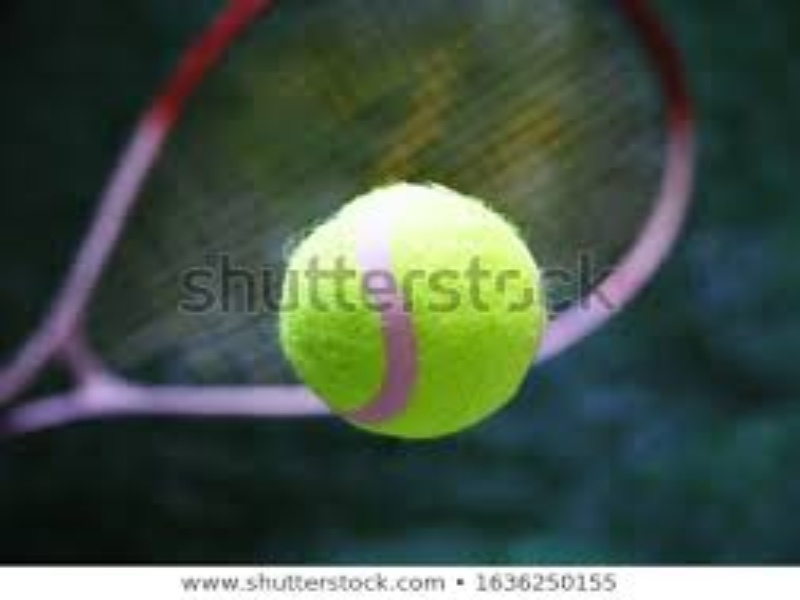tennis ball: (251, 148, 575, 480)
